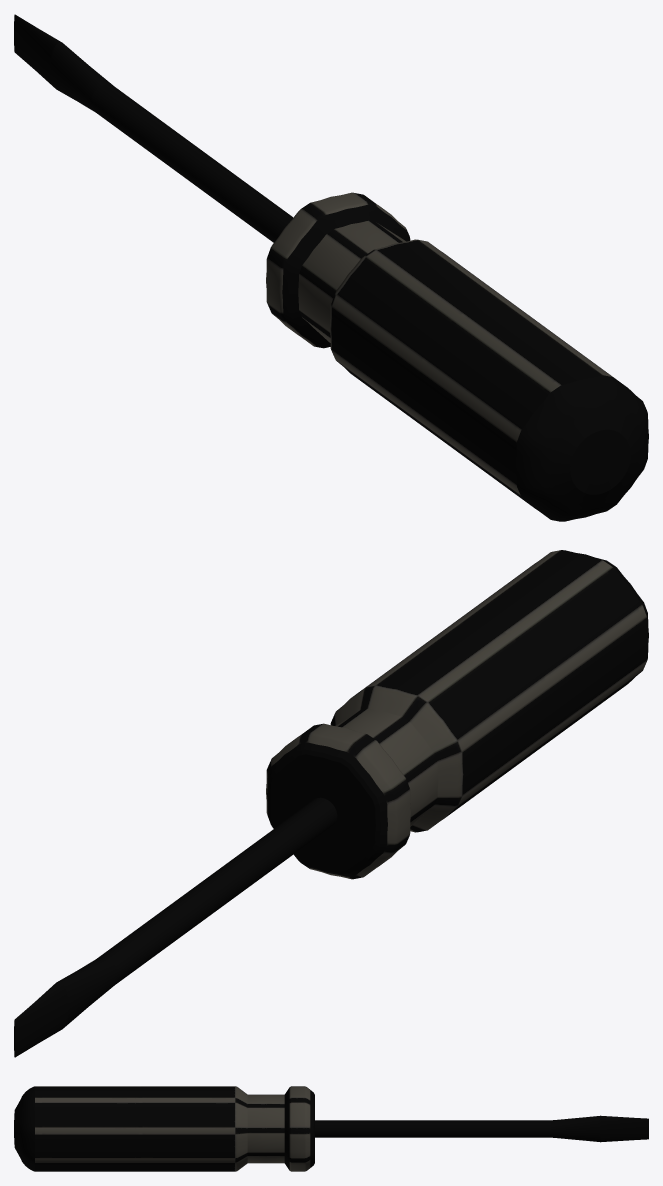
Rendered from Screwdriver.fbx.
3 views of the same model, one above another, from view 1: azimuth 30°, elevation 25°; view 2: azimuth 150°, elevation 25°; view 3: azimuth 270°, elevation 25° (orthographic). The views are drawn at different scales.
Parts seen in each view (by area): view 1: defaultMaterial.008; view 2: defaultMaterial.008; view 3: defaultMaterial.008.
Boxes of the visible parts, x1,y1,x2,y2 form: defaultMaterial.008: (14,14,648,521); defaultMaterial.008: (14,550,648,1057); defaultMaterial.008: (14,1086,648,1171).
Size of the model in its own units: 25.76 by 25.76 by 198.
1 material, 1 textured.
